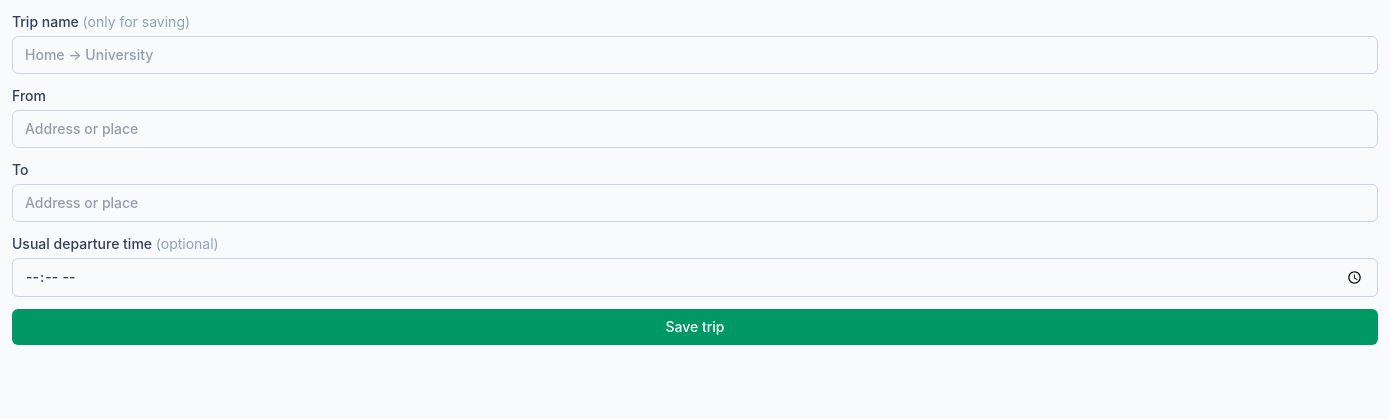
Test: AddTripForm › names the address that was not found (404)
Type "Home -> Uni" into the field labelled "Trip name (only for saving)" at (695, 55), box [12,36,1378,74]
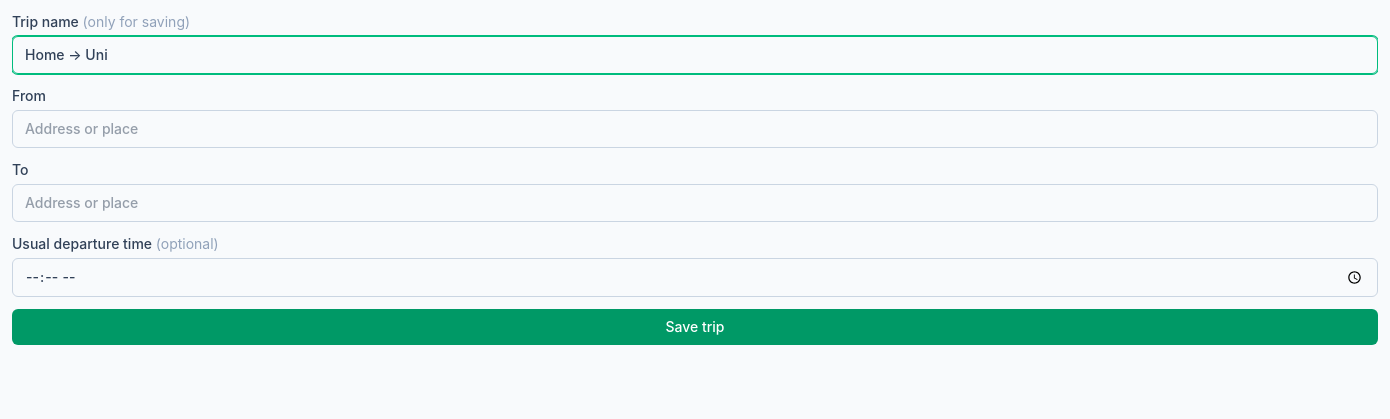
Type "Nowhere 123" into the field labelled "From" at (695, 129), box [12,110,1378,148]
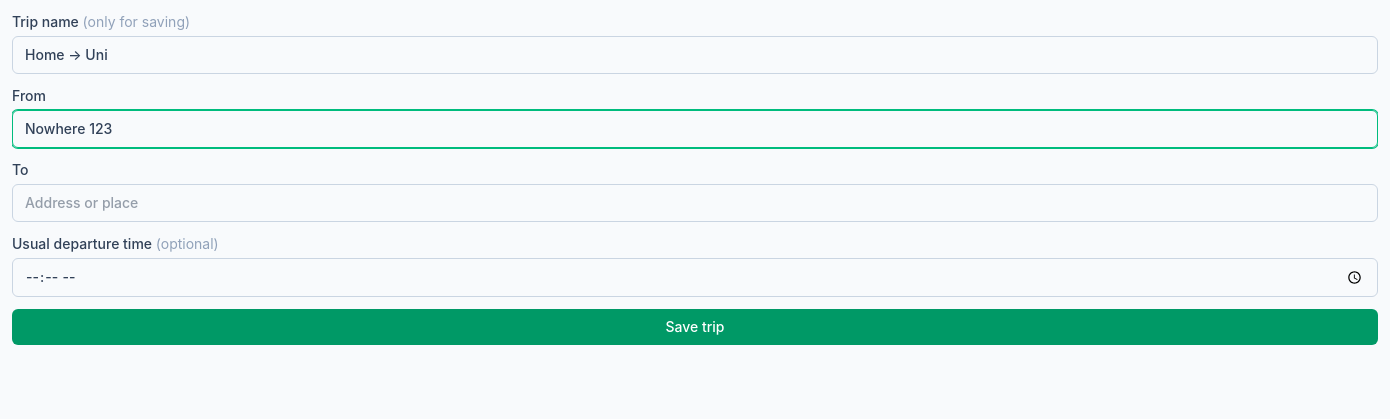
Type "Politechnika" into the field labelled "To" at (695, 203), box [12,184,1378,222]
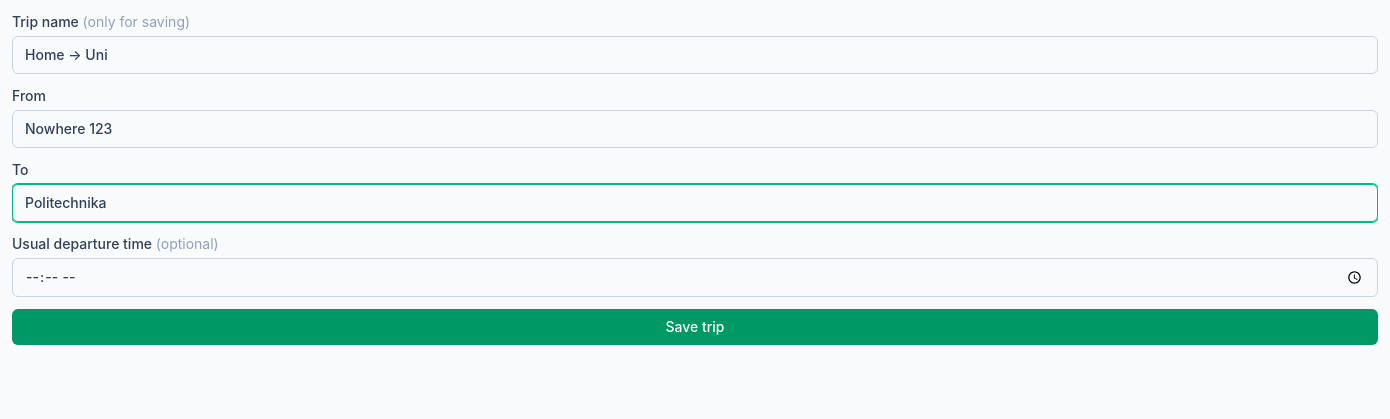
Click the button "Save trip" at (695, 327), box [12,309,1378,345]
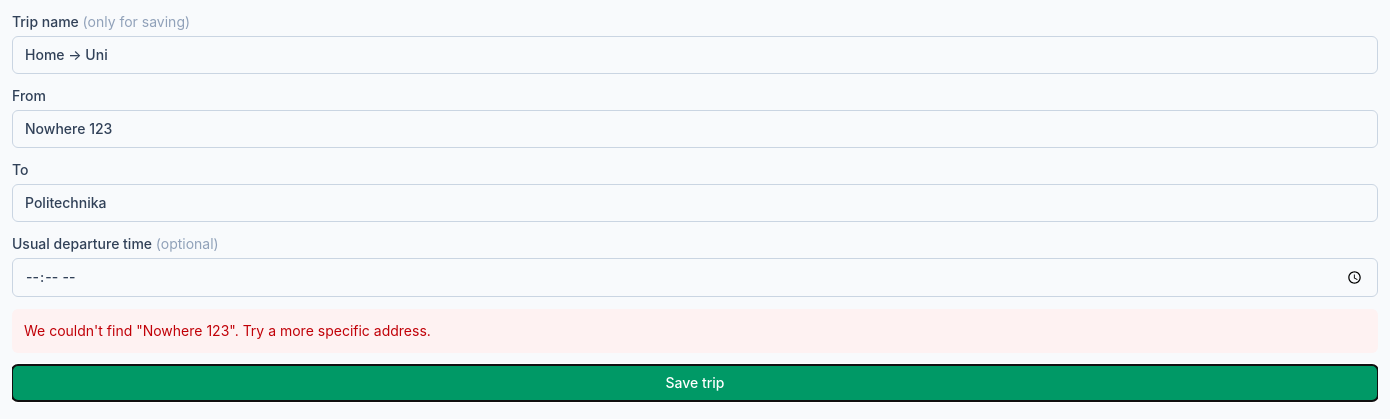
Expected: the message shows "couldn't find \"Nowhere 123\"", [24,322,431,339]
